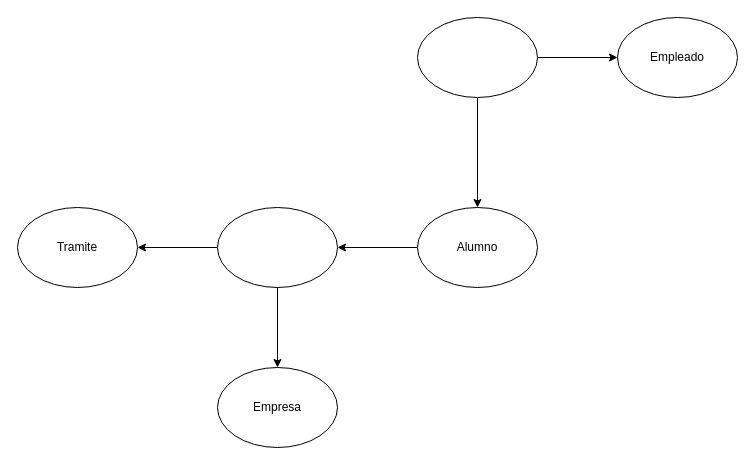
Some shapes in this 755 by 465 pixel diagram are drawn without their labels. The shapes that lost their labels are listed below. From the top down, each one's centre as x and y in pixels, then its label:
[477,57]: Sesión usuarios
[277,247]: Información escolar
